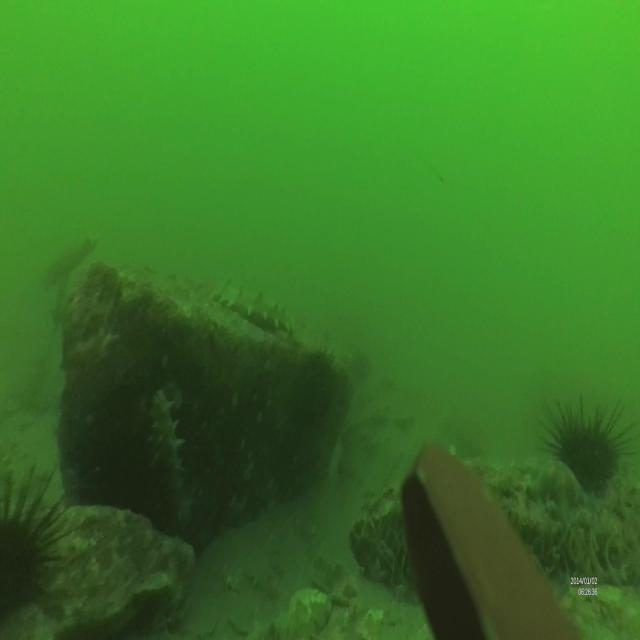echinus: (2, 466, 76, 619), (540, 390, 638, 491), (301, 330, 338, 425)
holothurian: (146, 387, 192, 532), (211, 272, 298, 337)
